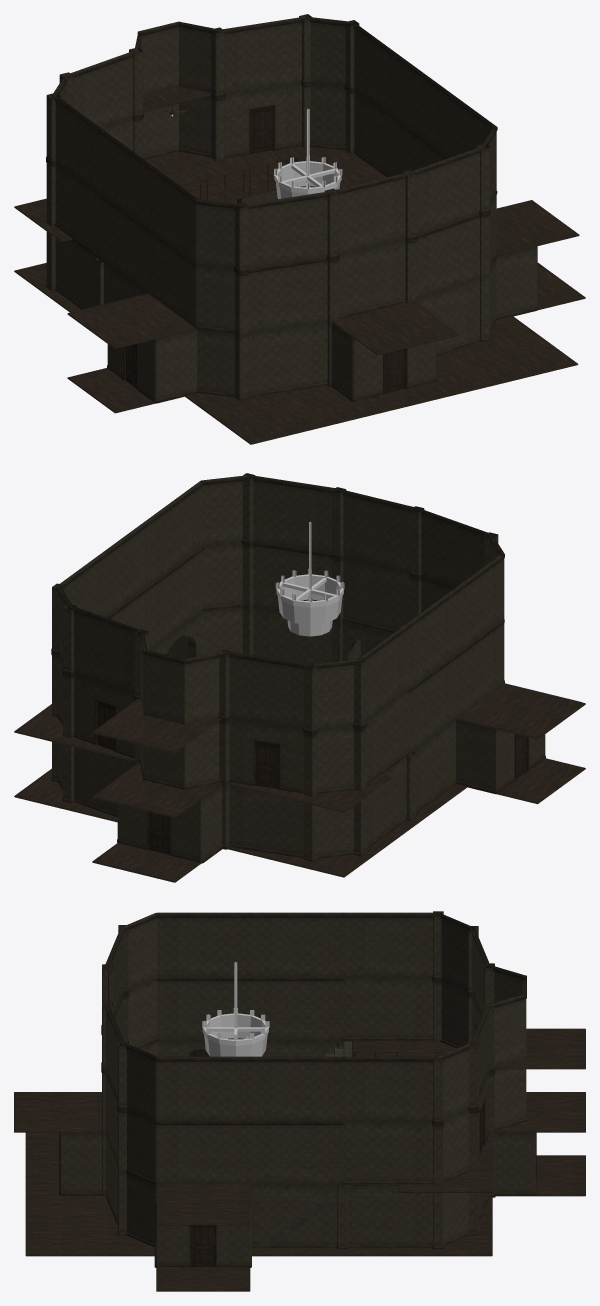
Rendered from Act2Room.smallV.fbx.
3 renders of one model, top to bottom at view 1: azimuth 30°, elevation 25°; view 2: azimuth 150°, elevation 25°; view 3: azimuth 270°, elevation 25°, orthographic. The views are drawn at different scales.
Visible parts, largest first — view 1: wall_2_1.122, wall_2_1.018, wall_2_1.136, wall_2_1.134, wall_2_1.139, wall_2_1.138, wall_2_1.135, wall_2_1.126, doorway_2.006, floor_ceiling_1.179, floor_ceiling_1.177, floor_ceiling_1.176 (+67 smaller); view 2: wall_2_1.135, wall_2_1.017, wall_2_1.139, wall_2_1.005, wall_2_1.138, wall_2_1.018, floor_ceiling_1.179, doorway_2.002, wall_2_1.122, chandelier, wall_2_1.104, wall_2_1.101 (+61 smaller); view 3: wall_2_1.102, wall_2_1.101, wall_2_1.099, wall_2_1.104, wall_2_1.103, wall_2_1.098, wall_2_1.100, wall_2_1.011, wall_2_1.010, wall_2_1.009, wall_2_1.014, wall_2_1.012 (+57 smaller).
Part boxes in pixels (bbox=[...]): wall_2_1.122: bbox=[242, 191, 332, 269]; wall_2_1.018: bbox=[216, 16, 307, 94]; wall_2_1.136: bbox=[249, 257, 327, 333]; wall_2_1.134: bbox=[249, 321, 327, 397]; wall_2_1.139: bbox=[328, 171, 411, 254]; wall_2_1.138: bbox=[339, 239, 406, 318]; wall_2_1.135: bbox=[409, 146, 484, 235]; wall_2_1.126: bbox=[416, 213, 479, 299]; doorway_2.006: bbox=[225, 83, 302, 158]; floor_ceiling_1.179: bbox=[67, 293, 195, 349]; floor_ceiling_1.177: bbox=[203, 391, 332, 444]; floor_ceiling_1.176: bbox=[452, 329, 578, 384]; wall_2_1.135: bbox=[248, 475, 339, 553]; wall_2_1.017: bbox=[222, 651, 313, 729]; wall_2_1.139: bbox=[336, 488, 420, 572]; wall_2_1.005: bbox=[229, 785, 303, 857]; wall_2_1.138: bbox=[343, 556, 410, 633]; wall_2_1.018: bbox=[69, 605, 144, 694]; floor_ceiling_1.179: bbox=[456, 683, 585, 739]; doorway_2.002: bbox=[229, 718, 303, 793]; wall_2_1.122: bbox=[417, 508, 492, 587]; chandelier: bbox=[275, 521, 344, 636]; wall_2_1.104: bbox=[453, 554, 504, 653]; wall_2_1.101: bbox=[406, 589, 457, 688]; wall_2_1.102: bbox=[155, 1056, 250, 1121]; wall_2_1.101: bbox=[249, 912, 344, 977]; wall_2_1.099: bbox=[249, 1056, 344, 1121]; wall_2_1.104: bbox=[155, 912, 250, 977]; wall_2_1.103: bbox=[155, 1121, 249, 1184]; wall_2_1.098: bbox=[342, 1056, 437, 1121]; wall_2_1.100: bbox=[342, 912, 437, 977]; wall_2_1.011: bbox=[250, 1121, 343, 1184]; wall_2_1.010: bbox=[342, 977, 432, 1041]; wall_2_1.009: bbox=[342, 1121, 432, 1184]; wall_2_1.014: bbox=[250, 977, 343, 1040]; wall_2_1.012: bbox=[250, 1185, 342, 1247].
Bounding box in the file's own units: 2304 × 1035 × 2454.
